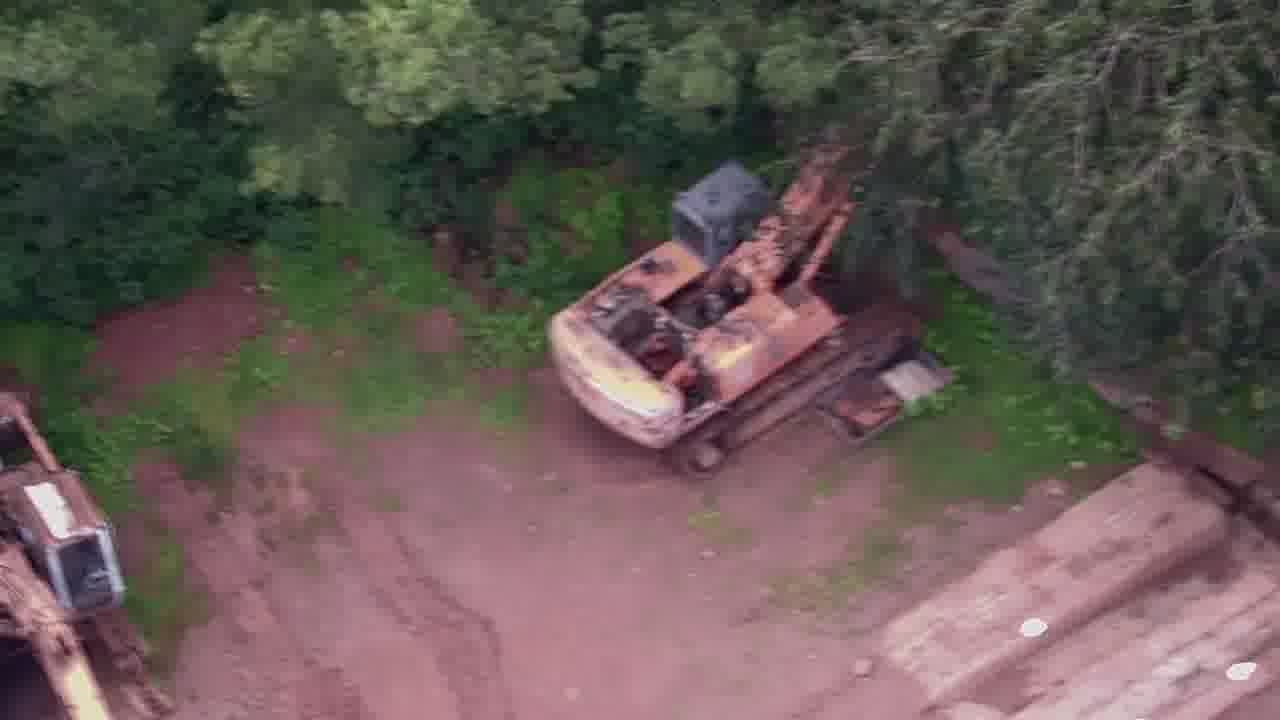HMV: (542, 103, 928, 495)
